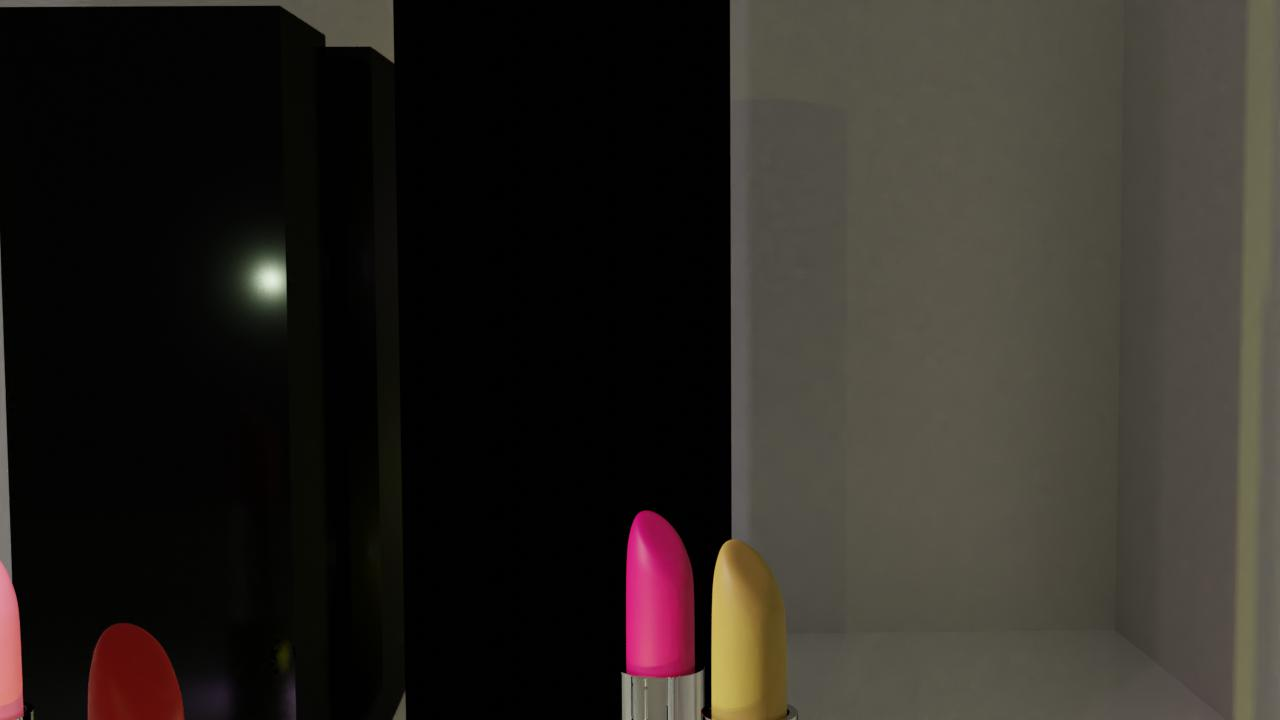CLASSIFIER_NAME: (611, 504, 714, 720), (693, 532, 807, 720), (71, 614, 228, 720), (0, 538, 57, 720)
